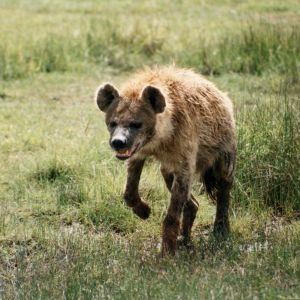hyna: (91, 57, 241, 258)
